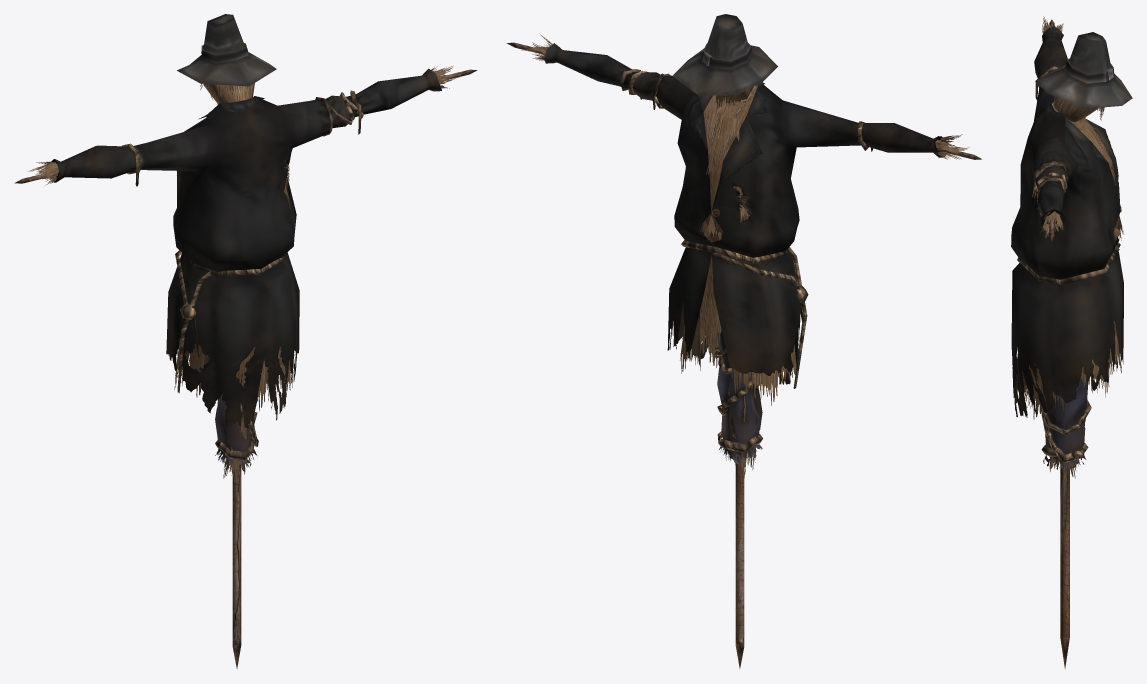
File: scarecrow.glb
The picture shows the model from 3 angles, left to right: view 1: azimuth 30°, elevation 25°; view 2: azimuth 150°, elevation 25°; view 3: azimuth 270°, elevation 25°; orthographic projection. The views are drawn at different scales.
Parts seen in each view (by area): view 1: Object_2; view 2: Object_2; view 3: Object_2.
Boxes of the visible parts, x1=… form: Object_2: x1=14, y1=14, x2=477, y2=668; Object_2: x1=506, y1=14, x2=981, y2=668; Object_2: x1=1011, y1=16, x2=1132, y2=669.
Bounding box in the file's own units: 78.86 × 105 × 18.18.
Materials: 1 (1 with a texture image).
